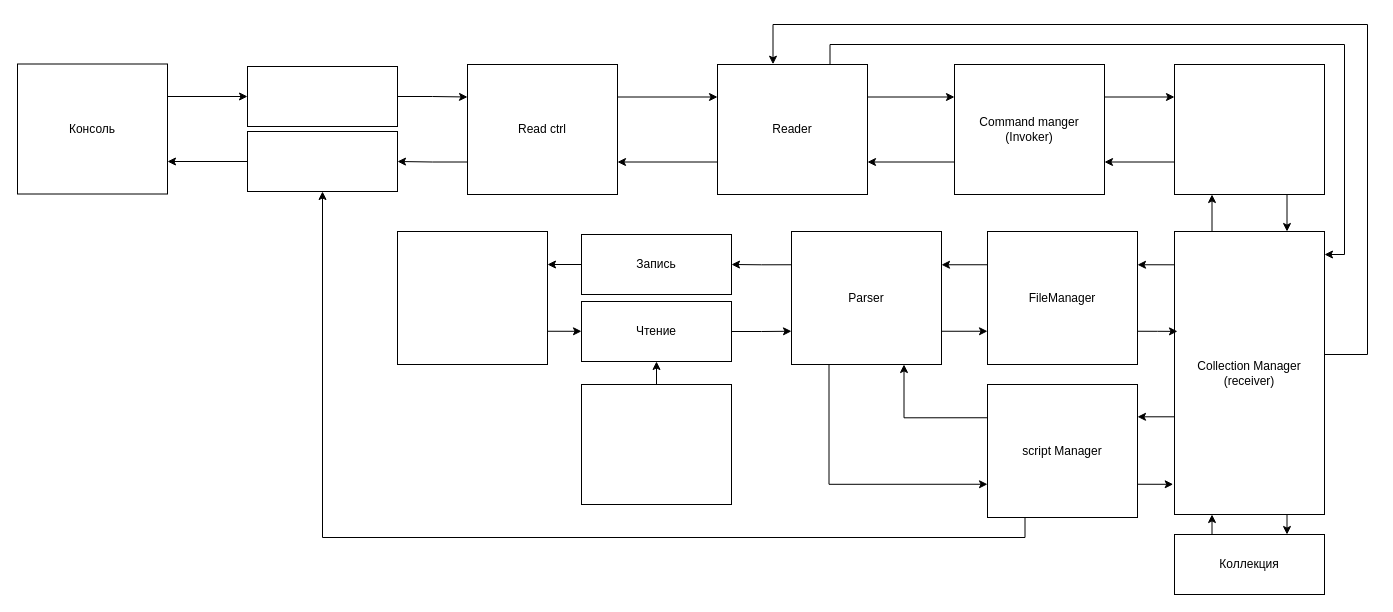
Some shapes in this 1393 by 612 pixel diagram are drawn without their labels. The centre of each missing label's shape, as x and y in pixels:
"Command" goes at pixel 1249 129.
"file" goes at pixel 472 297.
"script" goes at pixel 656 444.
"ввод" goes at pixel 322 96.
"вывод" goes at pixel 322 161.
